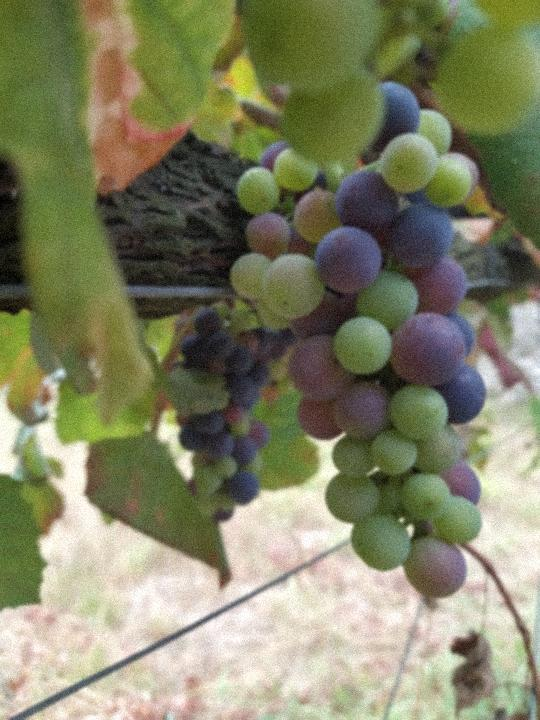grape: (226, 77, 488, 600)
